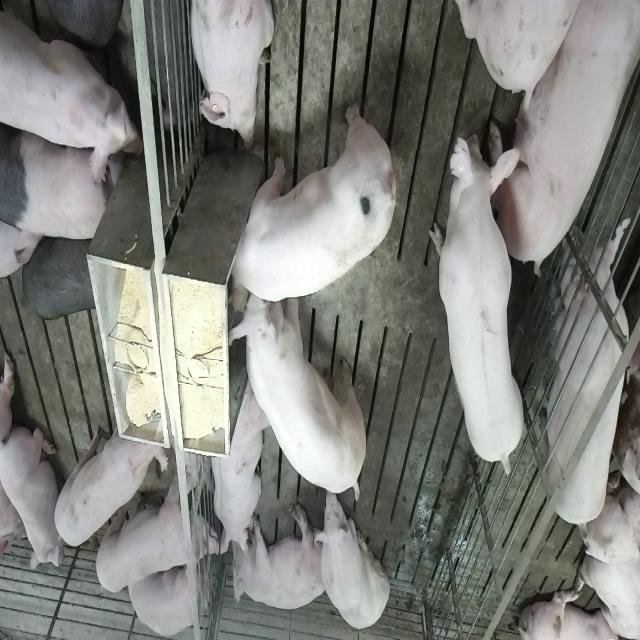Feeding: (228, 97, 398, 299), (230, 282, 370, 504)
Lateral_lying: (484, 4, 636, 278), (232, 502, 326, 612)
Sitting: (312, 488, 390, 632)
Standing: (432, 114, 528, 472), (546, 218, 640, 538), (2, 0, 142, 187), (52, 404, 166, 548), (95, 471, 219, 596), (3, 119, 115, 244), (20, 230, 102, 324)
Sternal_lying: (186, 0, 272, 149), (208, 379, 268, 556), (2, 418, 60, 570)
